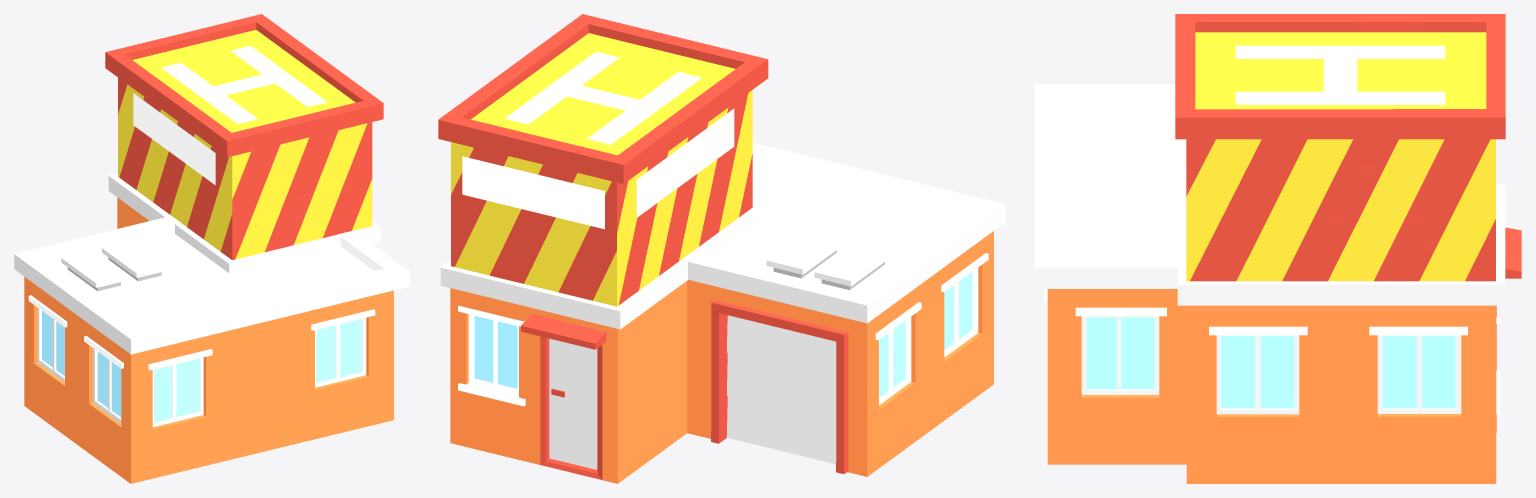
Rendered from purpose.004.glb.
3 renders of one model, left to right at view 1: azimuth 30°, elevation 25°; view 2: azimuth 150°, elevation 25°; view 3: azimuth 270°, elevation 25°, orthographic. The views are drawn at different scales.
Parts seen in each view (by area): view 1: purpose.004(Clone); view 2: purpose.004(Clone); view 3: purpose.004(Clone).
Boxes of the visible parts, bbox=[...] form: purpose.004(Clone): bbox=[14, 14, 409, 483]; purpose.004(Clone): bbox=[438, 14, 1005, 483]; purpose.004(Clone): bbox=[1034, 14, 1521, 483].
Bounding box in the file's own units: 7.41 × 6.36 × 7.57.
1 material, 1 textured.
